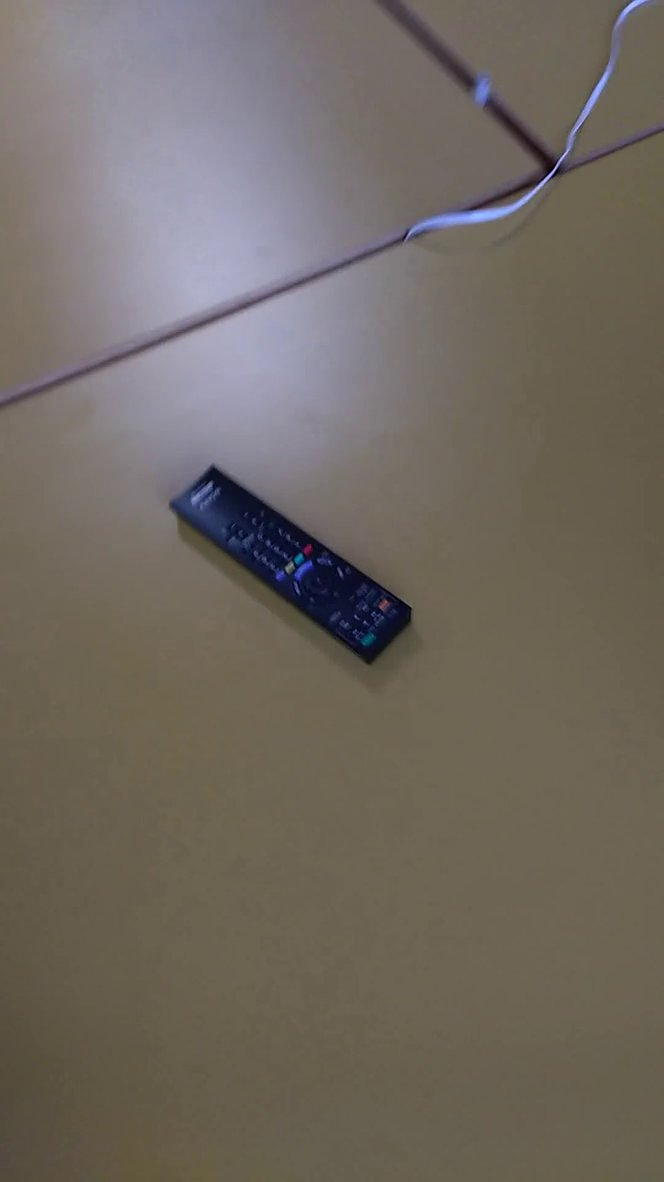remote: (158, 448, 427, 675)
